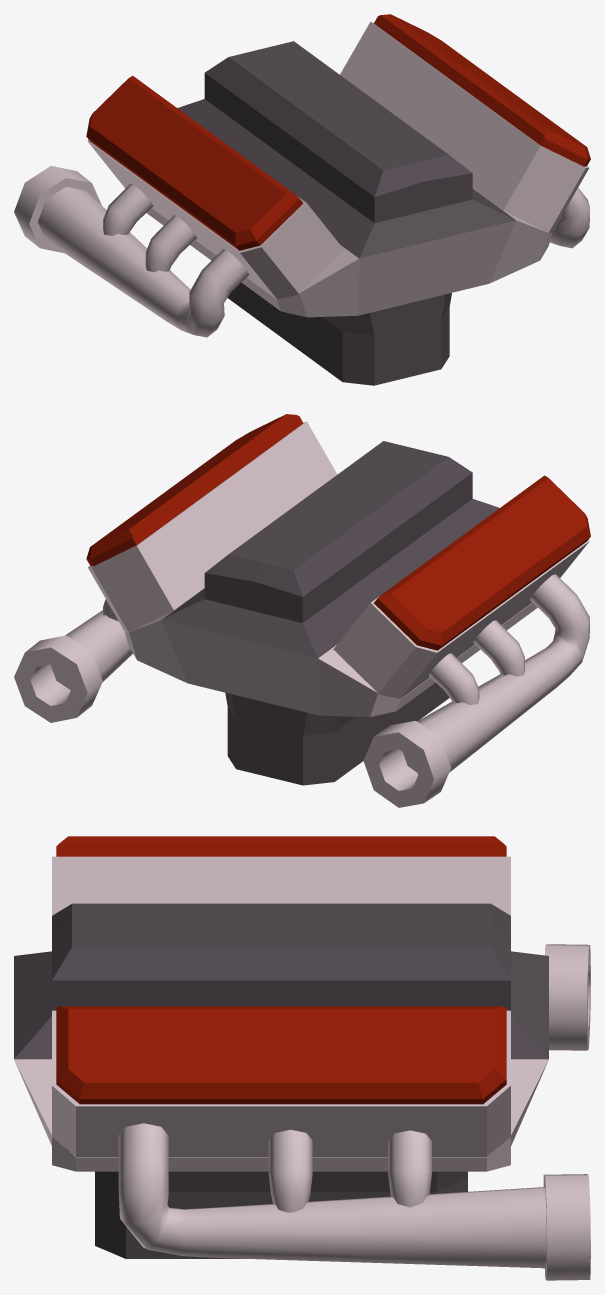
File: engine1.fbx
3 renders of one model, top to bottom at view 1: azimuth 30°, elevation 25°; view 2: azimuth 150°, elevation 25°; view 3: azimuth 270°, elevation 25°, orthographic. The views are drawn at different scales.
Parts seen in each view (by area): view 1: Cube.002; view 2: Cube.002; view 3: Cube.002.
Boxes of the visible parts, x1,y1,x2,y2 form: Cube.002: (14,14,590,385); Cube.002: (14,414,590,807); Cube.002: (14,836,590,1280).
Bounding box in the file's own units: 7.17 × 3.62 × 6.28.
Materials: 1 (1 with a texture image).
